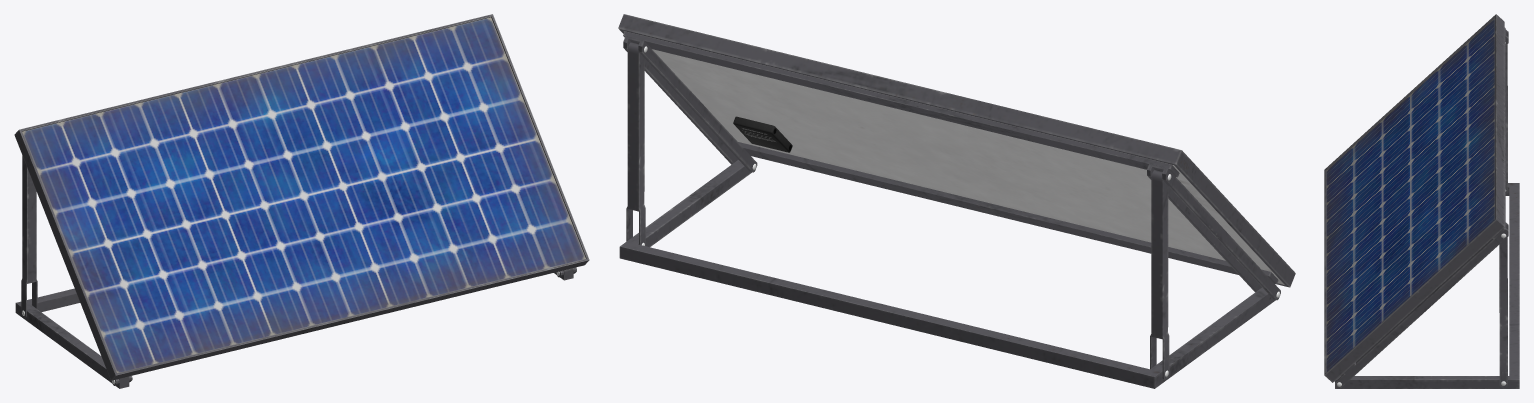
3 views of the same model, side by side, from view 1: azimuth 30°, elevation 25°; view 2: azimuth 150°, elevation 25°; view 3: azimuth 270°, elevation 25° (orthographic). The views are drawn at different scales.
Visible parts, largest first — view 1: SolarPanel; view 2: SolarPanel; view 3: SolarPanel.
Boxes of the visible parts, left/top/right/bottom form: SolarPanel: left=14, top=14, right=589, bottom=388; SolarPanel: left=618, top=14, right=1295, bottom=388; SolarPanel: left=1324, top=14, right=1519, bottom=388.
Size of the model in its own units: 165 by 65.13 by 66.43.
1 material, 1 textured.
